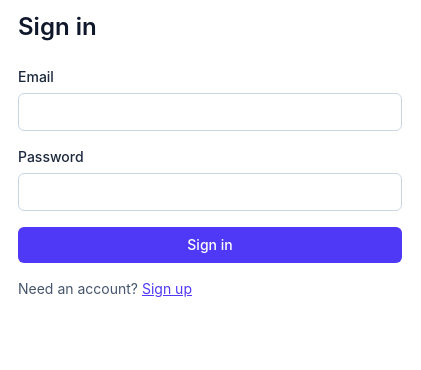
Test: SignInPage › shows a readable error when the API is unreachable
In the field labelled "Email": (210, 112) [18, 93, 402, 131], type "ada@example.com"
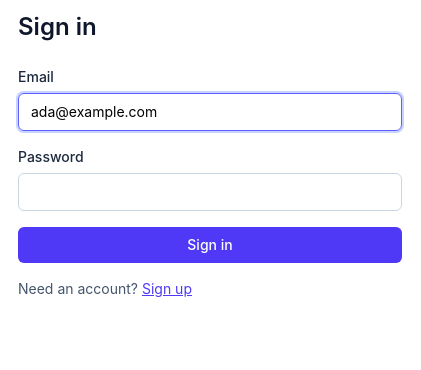
In the password field labelled "Password": (210, 192) [18, 173, 402, 211], type "sup3r!secret"
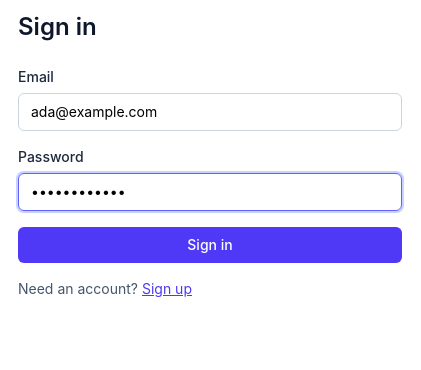
Click the button "Sign in": (210, 245) [18, 227, 402, 263]
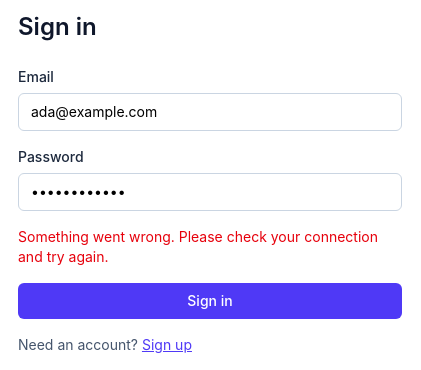
Result: the message shows "check your connection" at [18, 228, 378, 265]
